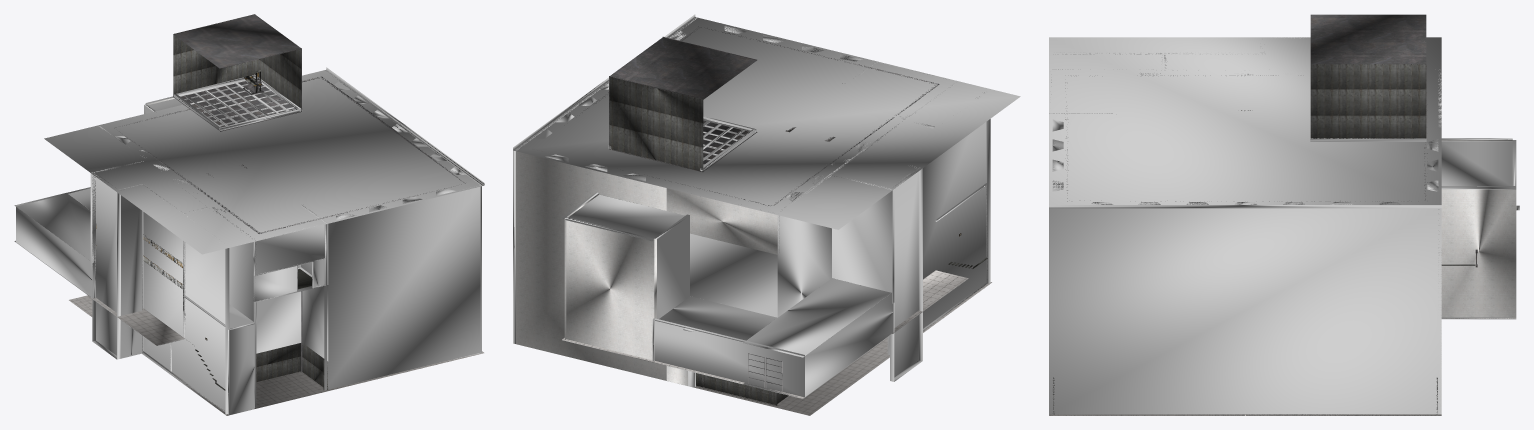
Rendered from room106_opt.obj.
3 renders of one model, left to right at view 1: azimuth 30°, elevation 25°; view 2: azimuth 150°, elevation 25°; view 3: azimuth 270°, elevation 25°, orthographic. The views are drawn at different scales.
Size of the model in its own units: 178 by 149 by 207.
